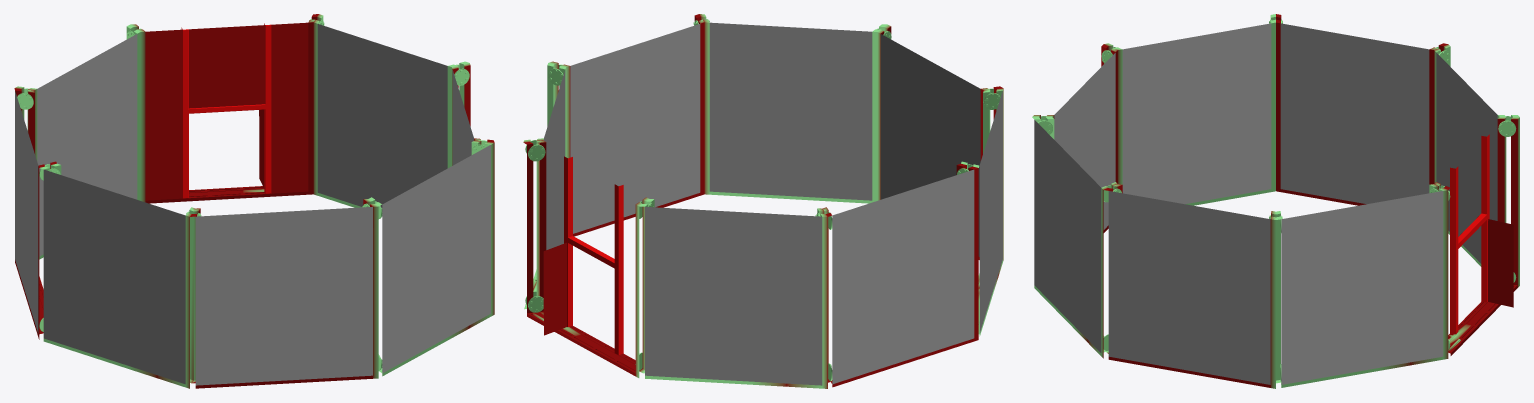
The model's file is MoonBaboon_GlassWall_02.gltf.
3 views of the same model, side by side, from view 1: azimuth 30°, elevation 25°; view 2: azimuth 150°, elevation 25°; view 3: azimuth 270°, elevation 25° (orthographic).
Parts seen in each view (by area): view 1: MoonBaboon_GlassWall_02; view 2: MoonBaboon_GlassWall_02; view 3: MoonBaboon_GlassWall_02.
Part boxes in pixels (box(x1,y1,x2,y2)): MoonBaboon_GlassWall_02: box(14, 14, 494, 388); MoonBaboon_GlassWall_02: box(523, 14, 1003, 388); MoonBaboon_GlassWall_02: box(1032, 14, 1519, 388).
Size of the model in its own units: 131 by 49.95 by 131.
